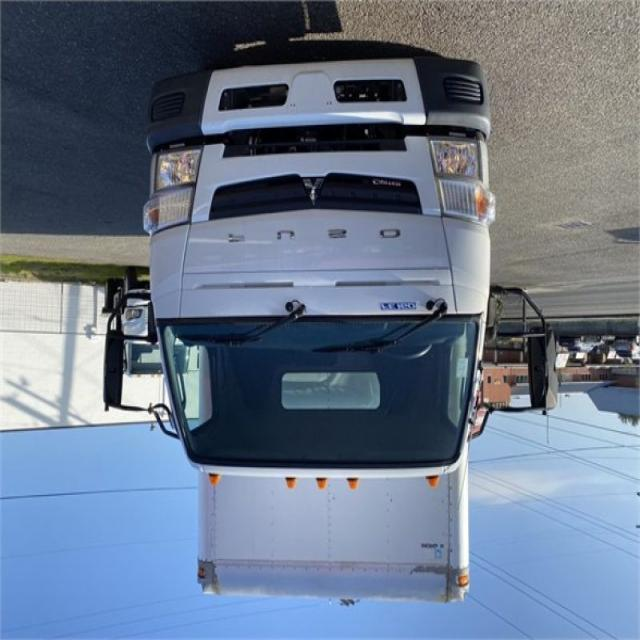truck: (101, 55, 546, 608)
